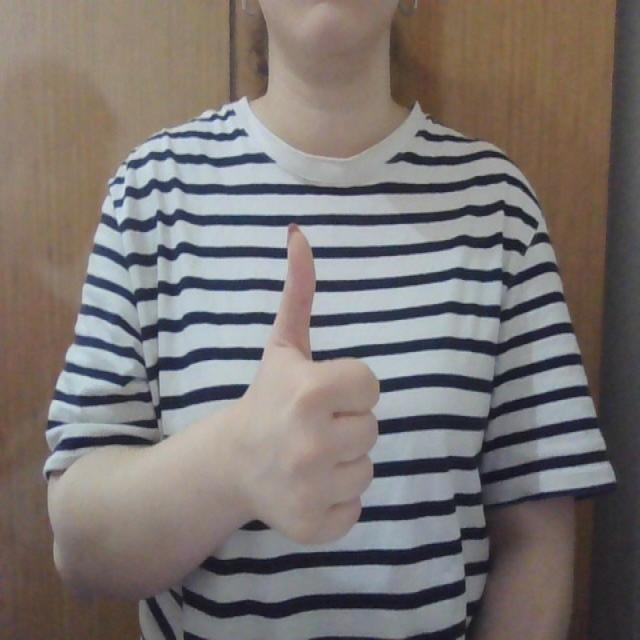Tamam: (217, 212, 391, 554)
